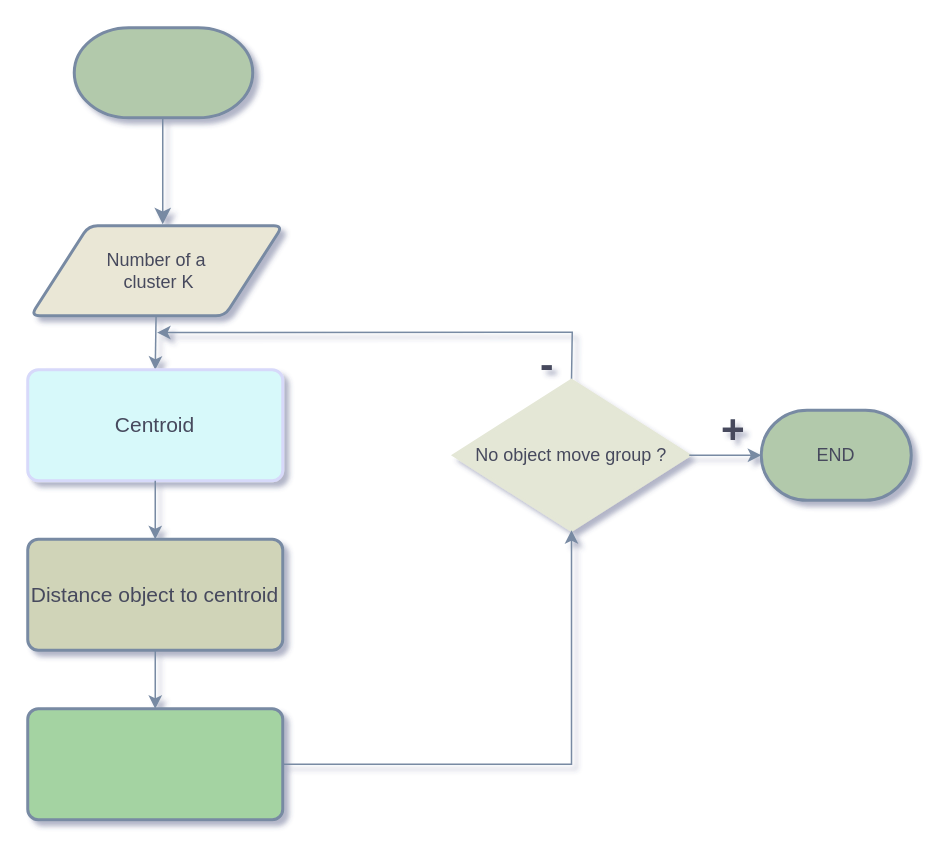
Some shapes in this 947 by 855 pixel diagram are drawn without their labels. The shapes that lost their labels are listed below. From the top down, each one's box as (x1, y1, x2, y2) in pixels, then its label:
(72, 26, 254, 118): START
(26, 706, 284, 820): Grouping based on minimum distance
